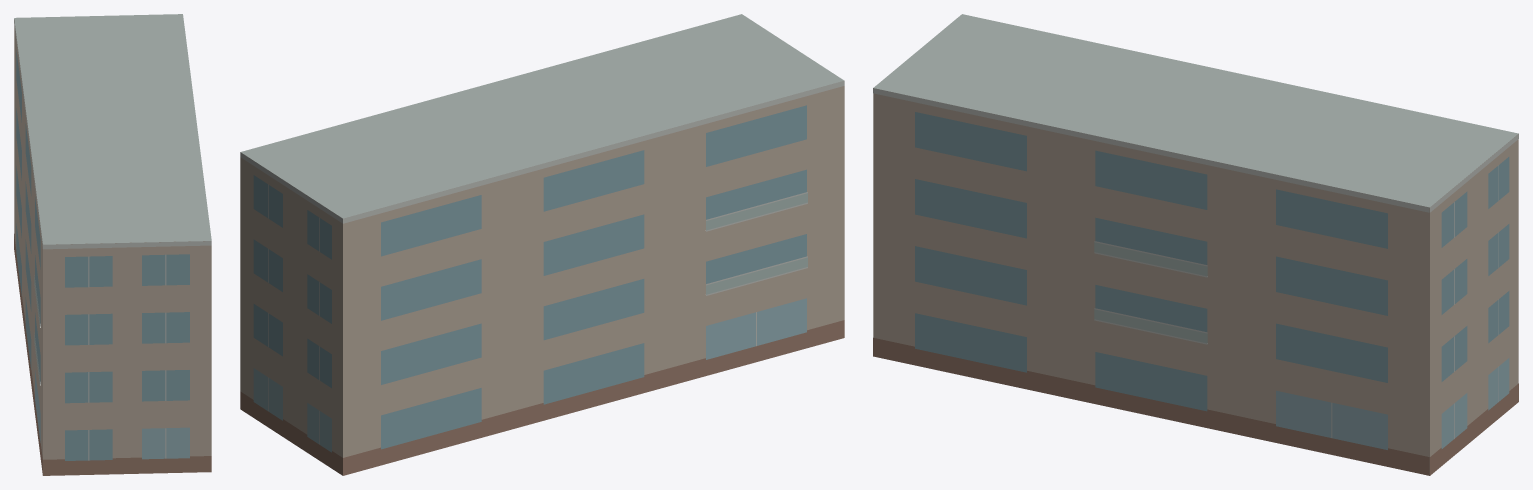
The model's file is residential-7c11e5a6-59ba-4a52-92c7-1fb27befa11b.glb.
3 renders of one model, left to right at view 1: azimuth 30°, elevation 25°; view 2: azimuth 150°, elevation 25°; view 3: azimuth 270°, elevation 25°, orthographic. The views are drawn at different scales.
Parts seen in each view (by area): view 1: residential-7c11e5a6-59ba-4a52-92c7-1fb27befa11b.tmp; view 2: residential-7c11e5a6-59ba-4a52-92c7-1fb27befa11b.tmp; view 3: residential-7c11e5a6-59ba-4a52-92c7-1fb27befa11b.tmp.
Part boxes in pixels (box(x1,y1,x2,y2)): residential-7c11e5a6-59ba-4a52-92c7-1fb27befa11b.tmp: box(14, 14, 211, 475); residential-7c11e5a6-59ba-4a52-92c7-1fb27befa11b.tmp: box(240, 14, 844, 475); residential-7c11e5a6-59ba-4a52-92c7-1fb27befa11b.tmp: box(873, 14, 1518, 475).
Size of the model in its own units: 18.87 by 12.2 by 26.6.
